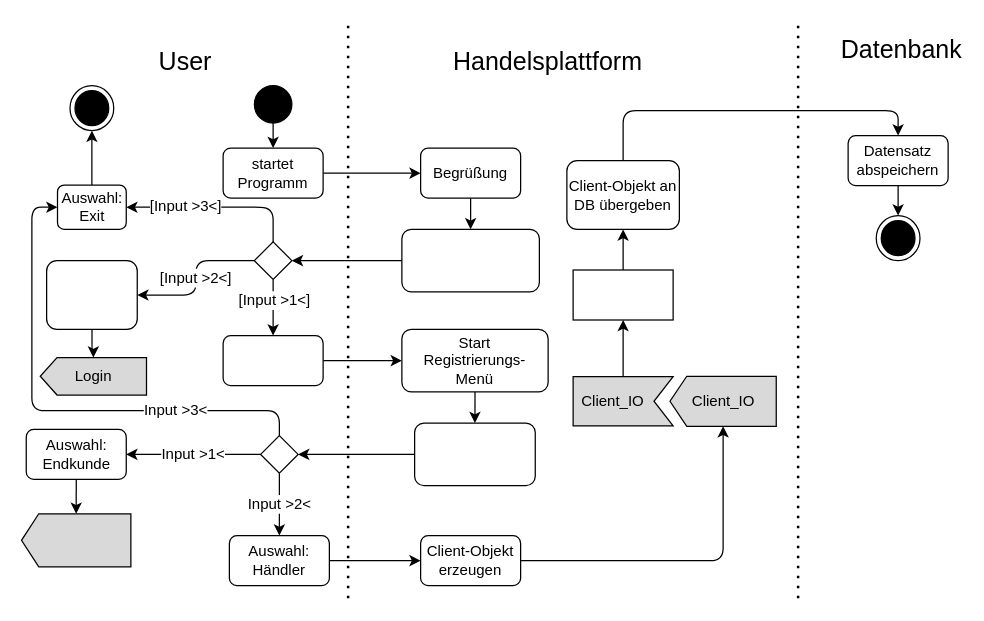
Some shapes in this 984 by 621 pixel diagram are drawn without their labels. Each missing label, with the centre of its shape:
Auswahl: Login: (91,294)
Auswahl: Regietrierung: (272,360)
Client: (622,294)
Handlungsabfrage: (470,260)
Kunden- registrierung: (75,539)
Nutzergruppe?: (474,454)
